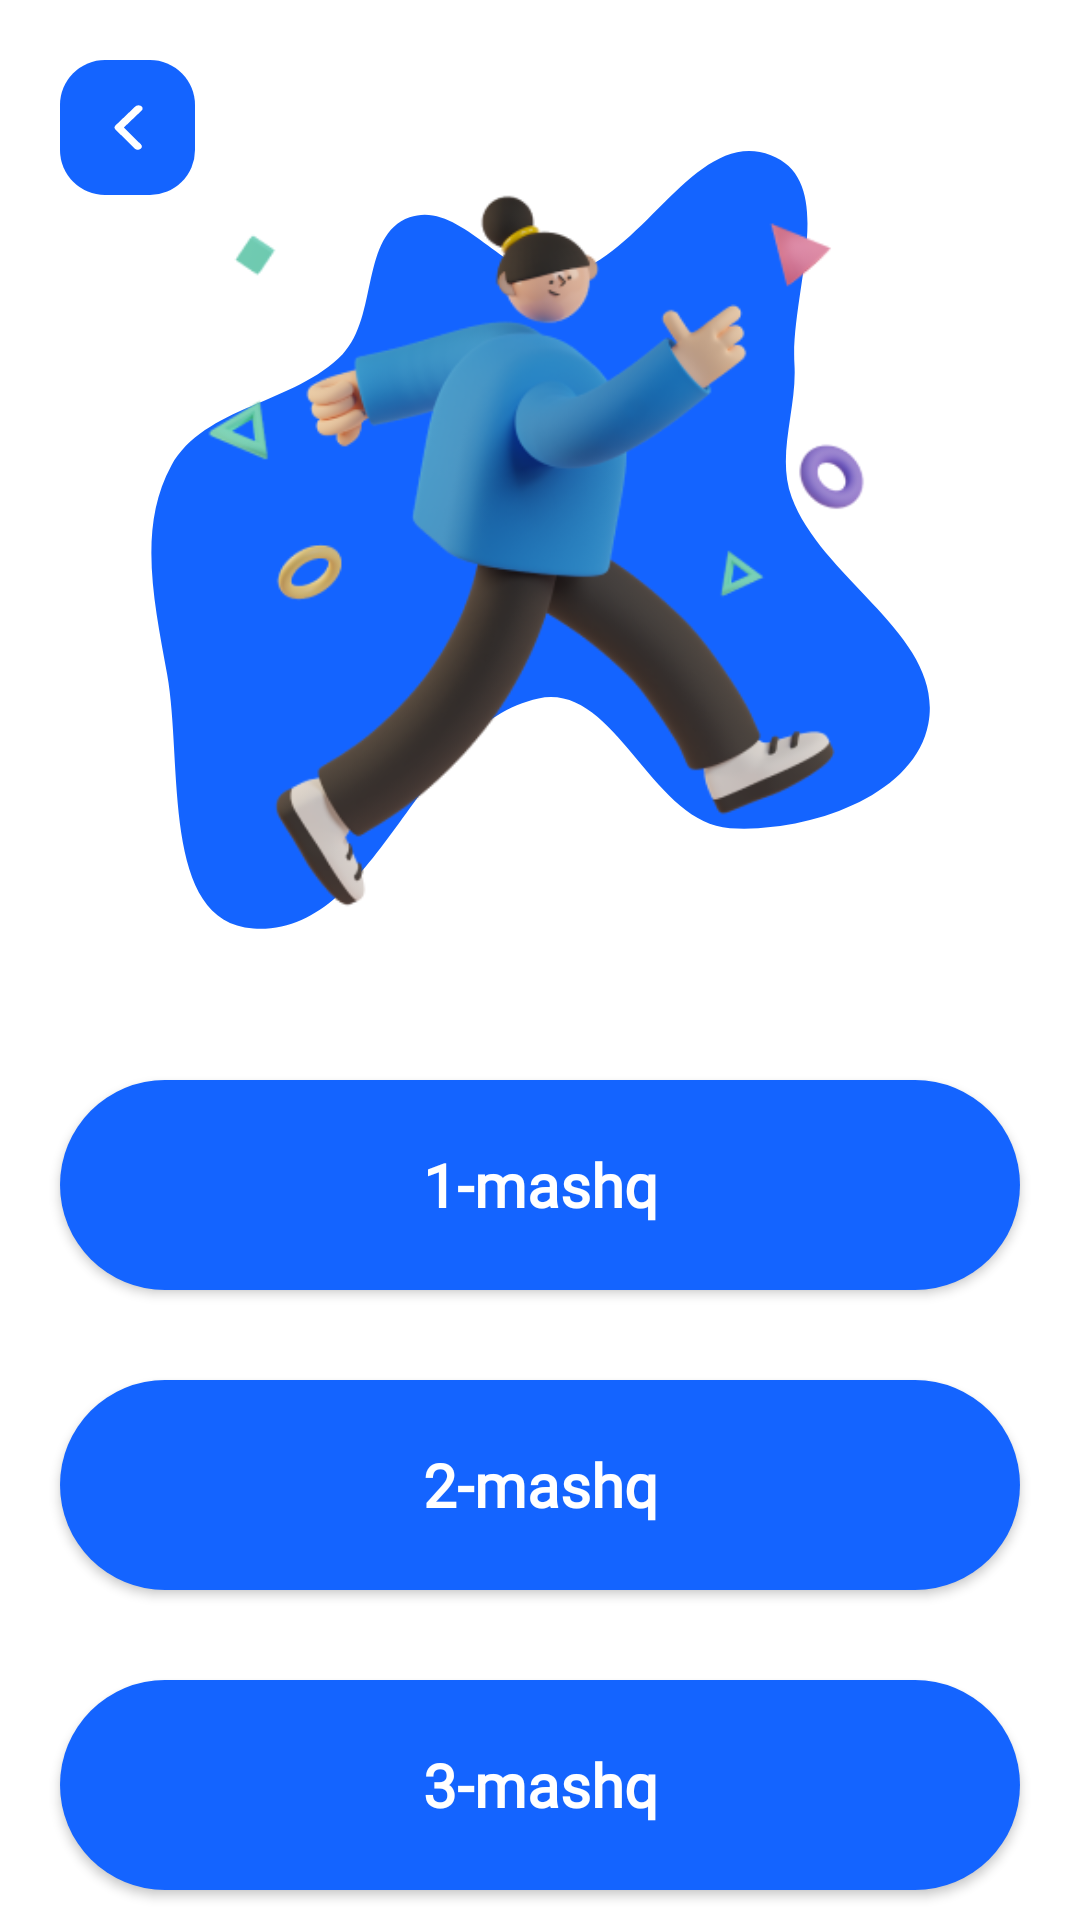

Icon click points for this 1080w x 1920h phone screenshot, format [x,y]:
left arrow: [127,127]
